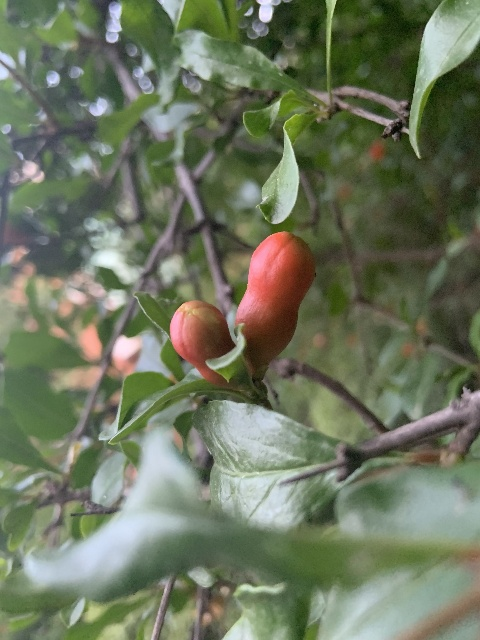bud: (234, 229, 315, 377), (169, 299, 233, 386)
